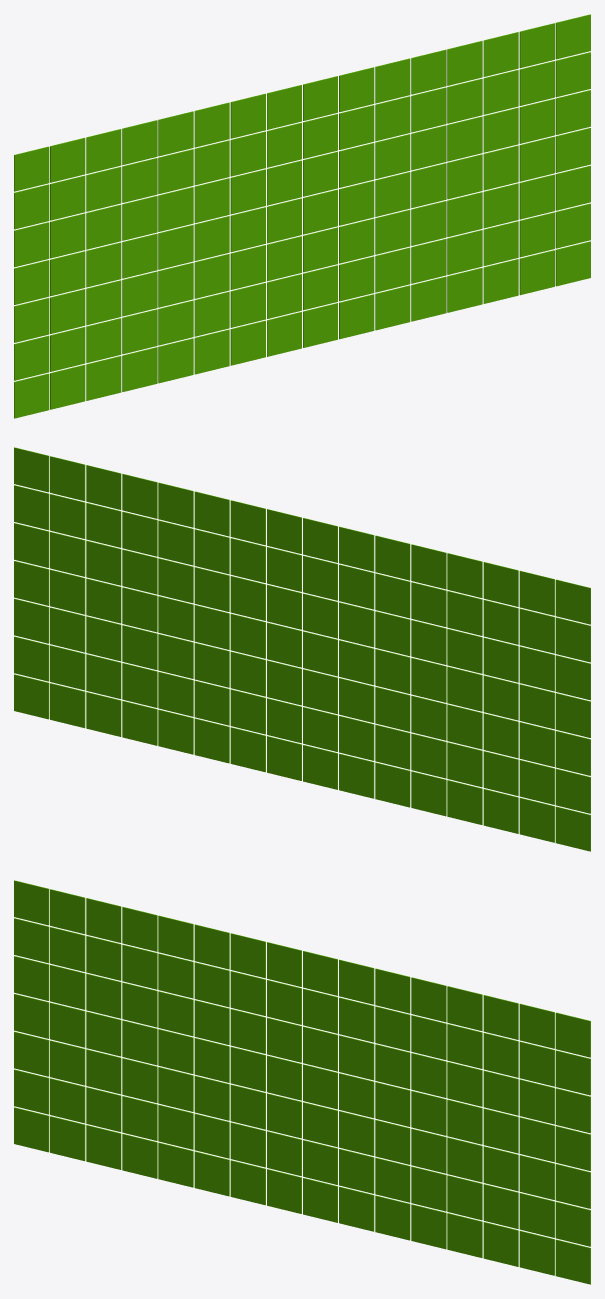
Rendered from tiles.glb.
3 views of the same model, one above another, from view 1: azimuth 30°, elevation 25°; view 2: azimuth 150°, elevation 25°; view 3: azimuth 330°, elevation 25° (orthographic).
Visible parts, largest first — view 1: mesh_mm22, mesh_mm91, mesh_mm1, mesh_mm16, mesh_mm21, mesh_mm35, mesh_mm36, mesh_mm77, mesh_mm78, mesh_mm92, mesh_mm97, mesh_mm112 (+100 smaller); view 2: mesh_mm22, mesh_mm91, mesh_mm1, mesh_mm16, mesh_mm21, mesh_mm35, mesh_mm36, mesh_mm77, mesh_mm78, mesh_mm92, mesh_mm97, mesh_mm112 (+100 smaller); view 3: mesh_mm27, mesh_mm86, mesh_mm1, mesh_mm16, mesh_mm28, mesh_mm45, mesh_mm46, mesh_mm67, mesh_mm68, mesh_mm85, mesh_mm97, mesh_mm112 (+100 smaller).
Part boxes in pixels (x1,y1,x2,y2): mesh_mm22: (375, 96, 410, 141); mesh_mm91: (194, 291, 229, 336); mesh_mm1: (555, 14, 590, 59); mesh_mm16: (14, 146, 49, 191); mesh_mm21: (411, 87, 446, 132); mesh_mm35: (483, 107, 518, 152); mesh_mm36: (447, 116, 482, 161); mesh_mm77: (122, 271, 157, 316); mesh_mm78: (86, 280, 121, 325); mesh_mm92: (158, 300, 193, 345); mesh_mm97: (555, 241, 590, 286); mesh_mm112: (14, 373, 49, 418); mesh_mm22: (194, 529, 229, 574); mesh_mm91: (375, 724, 410, 769); mesh_mm1: (14, 447, 49, 492); mesh_mm16: (555, 579, 590, 624); mesh_mm21: (158, 520, 193, 565); mesh_mm35: (86, 540, 121, 585); mesh_mm36: (122, 549, 157, 594); mesh_mm77: (447, 704, 482, 749); mesh_mm78: (483, 713, 518, 758); mesh_mm92: (411, 733, 446, 778); mesh_mm97: (14, 674, 49, 719); mesh_mm112: (555, 806, 590, 851); mesh_mm27: (194, 962, 229, 1007); mesh_mm86: (375, 1157, 410, 1202); mesh_mm1: (555, 1012, 590, 1057); mesh_mm16: (14, 880, 49, 925); mesh_mm28: (158, 953, 193, 998); mesh_mm45: (122, 982, 157, 1027); mesh_mm46: (86, 973, 121, 1018); mesh_mm67: (483, 1146, 518, 1191); mesh_mm68: (447, 1137, 482, 1182); mesh_mm85: (411, 1166, 446, 1211); mesh_mm97: (555, 1239, 590, 1284); mesh_mm112: (14, 1107, 49, 1152).
Bounding box in the file's own units: 19.93 × 8.7 × 0.03.
